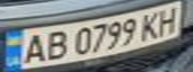0: (69, 24, 93, 56)
7: (90, 21, 109, 53)
9: (118, 15, 142, 46), (106, 18, 127, 51)
A: (15, 30, 51, 65)
B: (39, 28, 72, 61)
H: (151, 3, 184, 37)
K: (136, 9, 166, 40)
